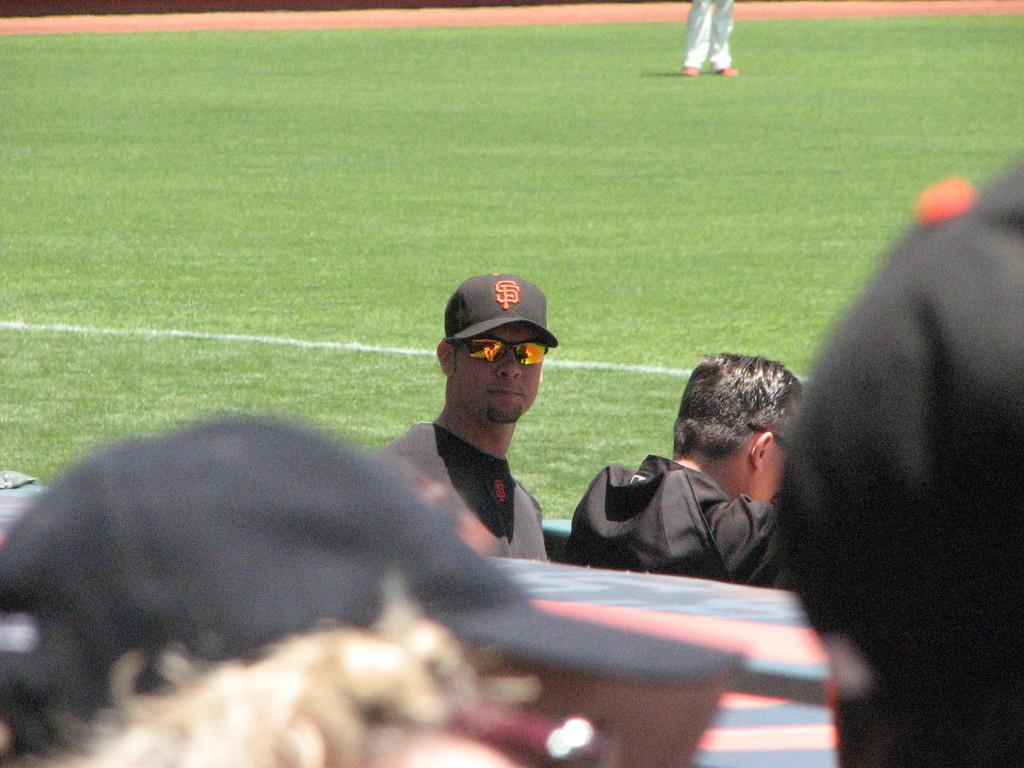Hat: (0, 410, 743, 766), (446, 269, 557, 355)
